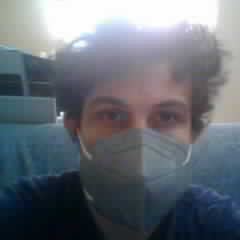with_mask: (81, 59, 193, 223)
